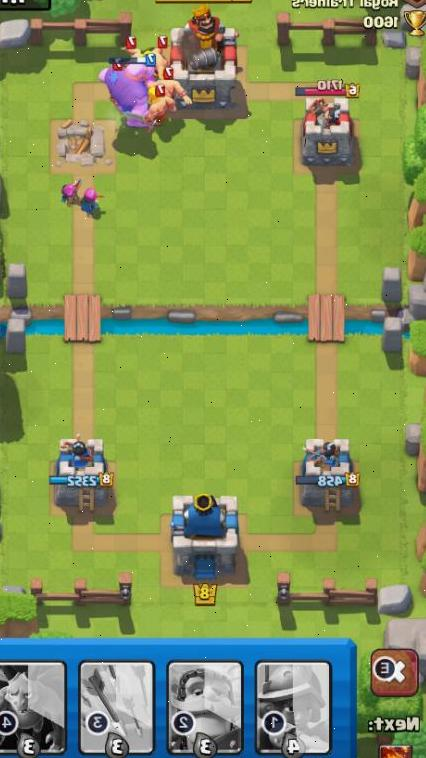enemy_barbarians: (149, 67, 192, 105), (140, 84, 175, 129)
player_archers: (78, 180, 108, 219), (56, 174, 85, 207)
player_giant: (97, 50, 175, 135)
